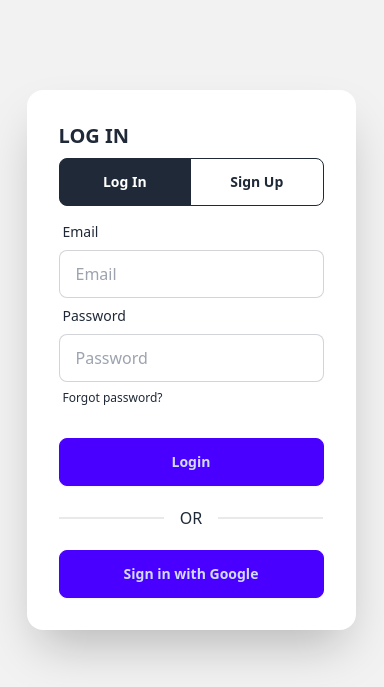
Test: Sign-Up Functionality › verifies passwords match
The width and height of the screenshot is (384, 687).
Click the button with test id "signup-btn": coordinates (257, 182) [190,158,324,206]
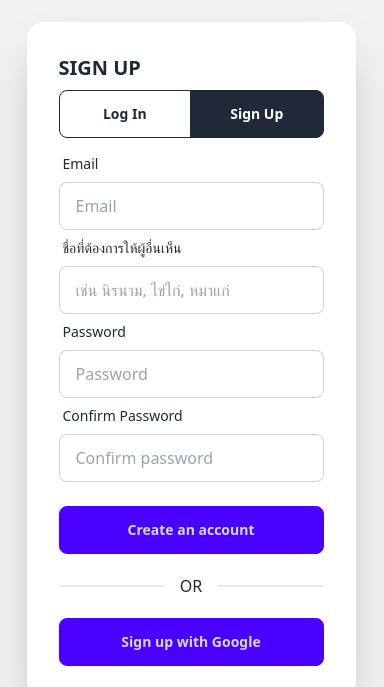
In the field with test id "signup-email": coordinates (192, 206) [59,182,324,230], type "test1@example.com"
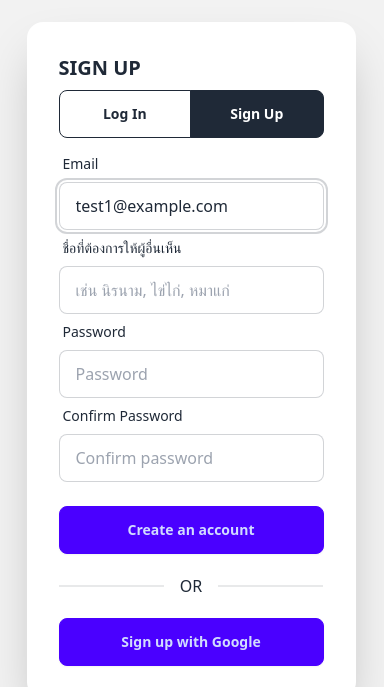
In the field with test id "signup-displayname": coordinates (192, 290) [59,266,324,314], type "testuser1"
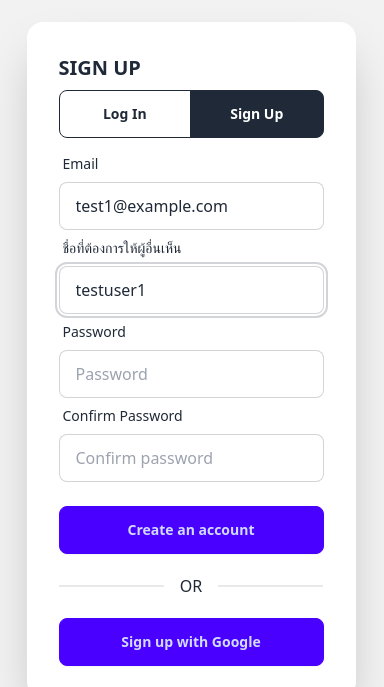
In the password field with test id "signup-password": coordinates (192, 374) [59,350,324,398], type "Password123!"
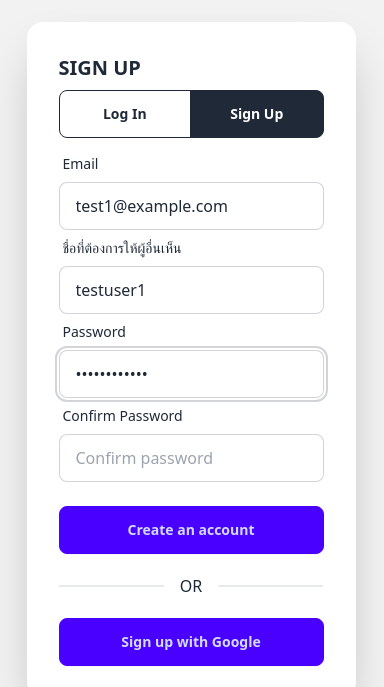
In the password field with test id "signup-confirm-password": coordinates (192, 458) [59,434,324,482], type "DifferentPassword123!"
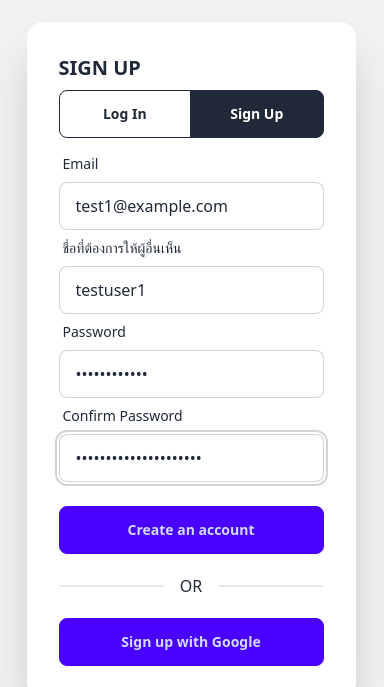
Click the button with test id "signup-submit": coordinates (192, 530) [59,506,324,554]
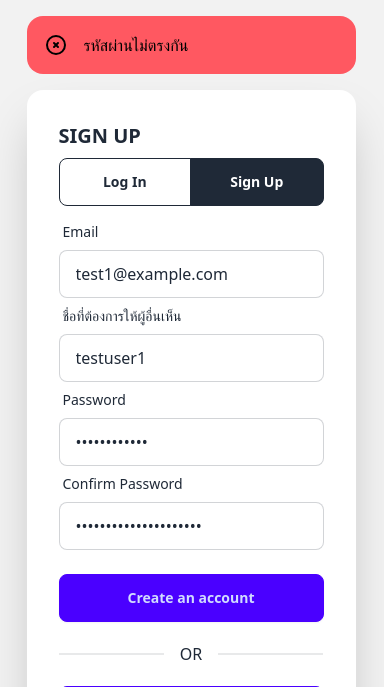
expect the message "รหัสผ่านไม่ตรงกัน" is shown: met, box [26,16,356,74]
expect the text with class "alert-error" reads "รหัสผ่านไม่ตรงกัน": met, box [84,34,189,56]
